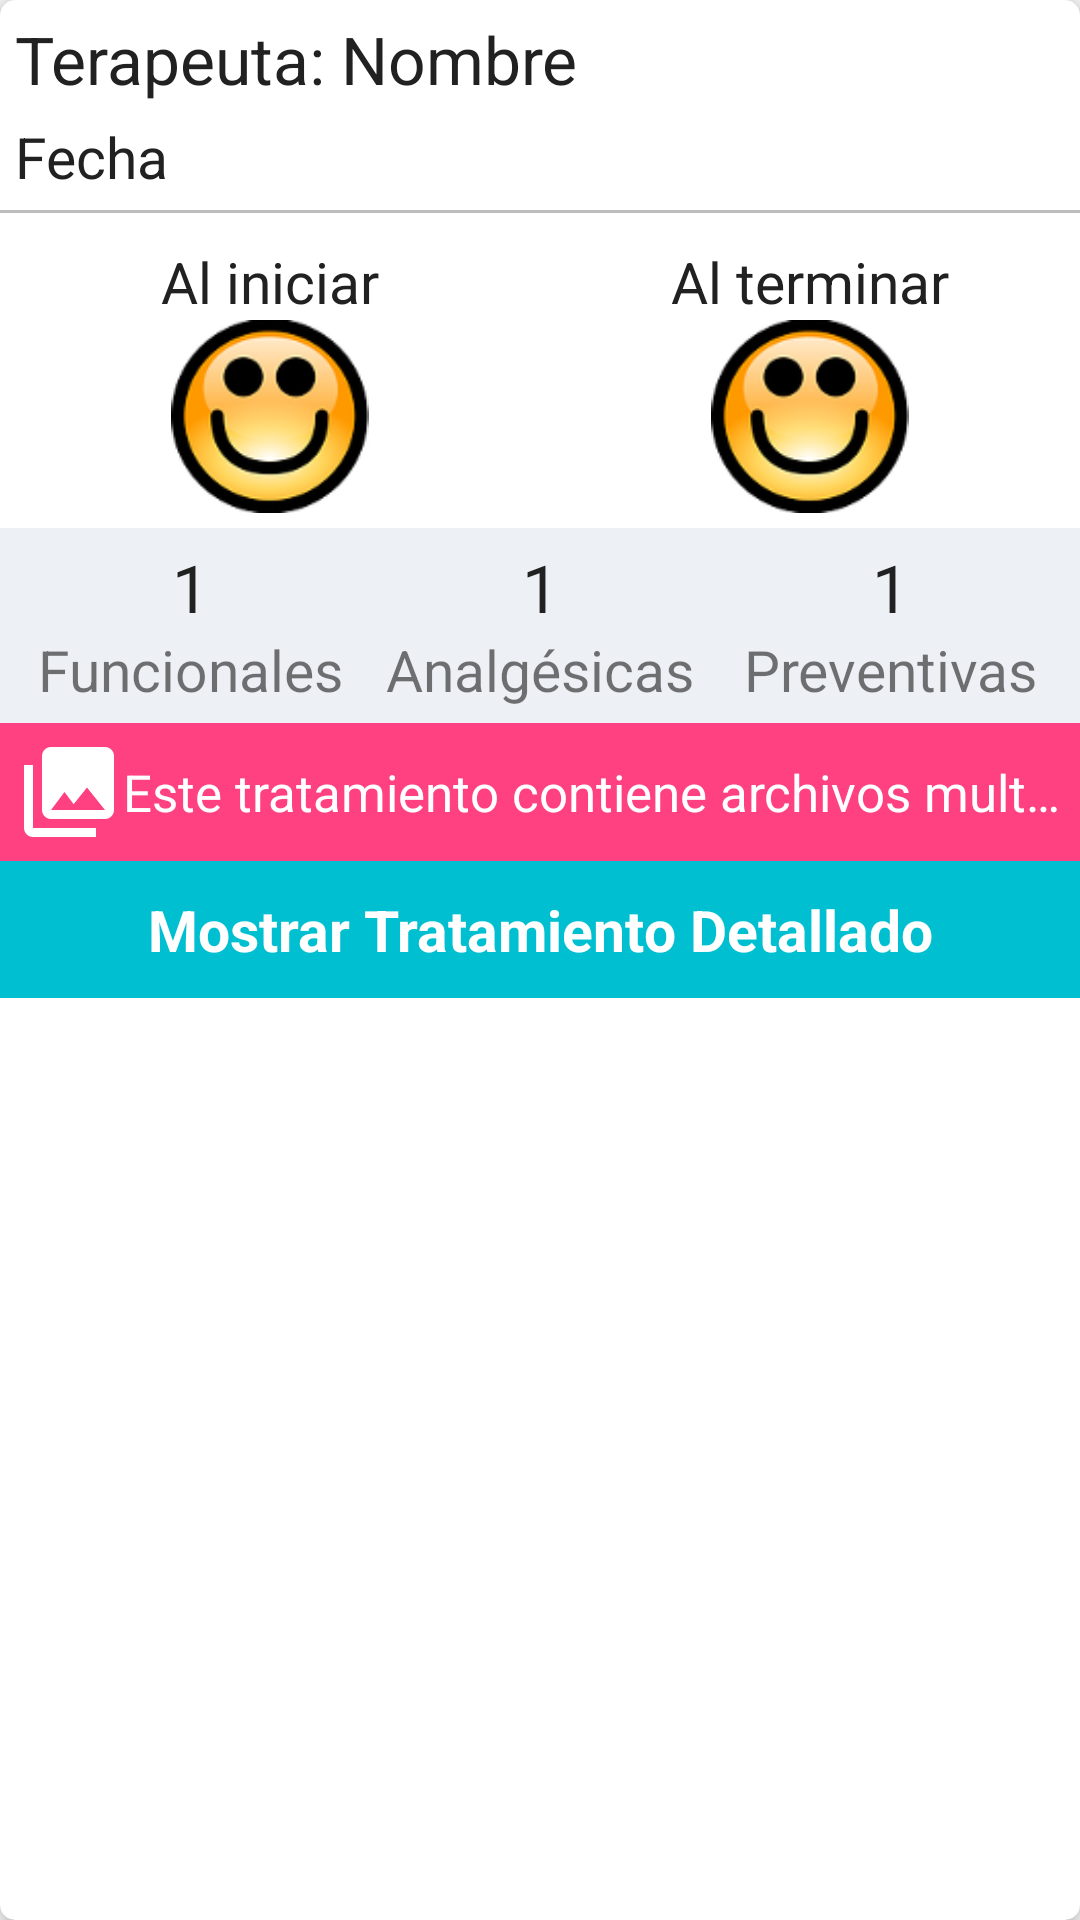

Named icons in this screenshot (1080px×1920px) and their centers, point (x, y):
cara: point (270, 416), point (810, 416)
